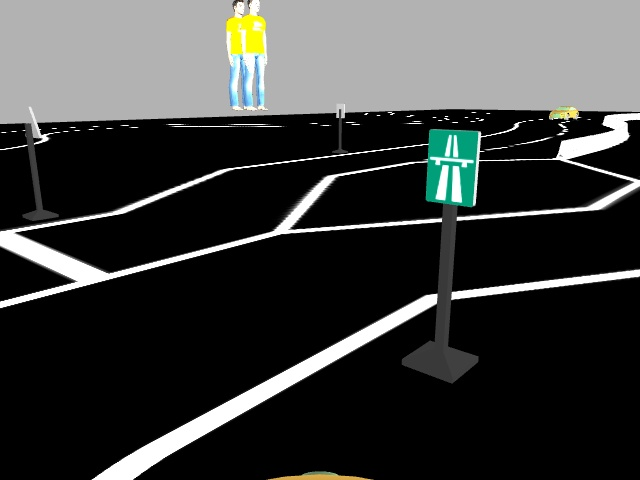HighwayEntrance: (422, 126, 479, 206)
